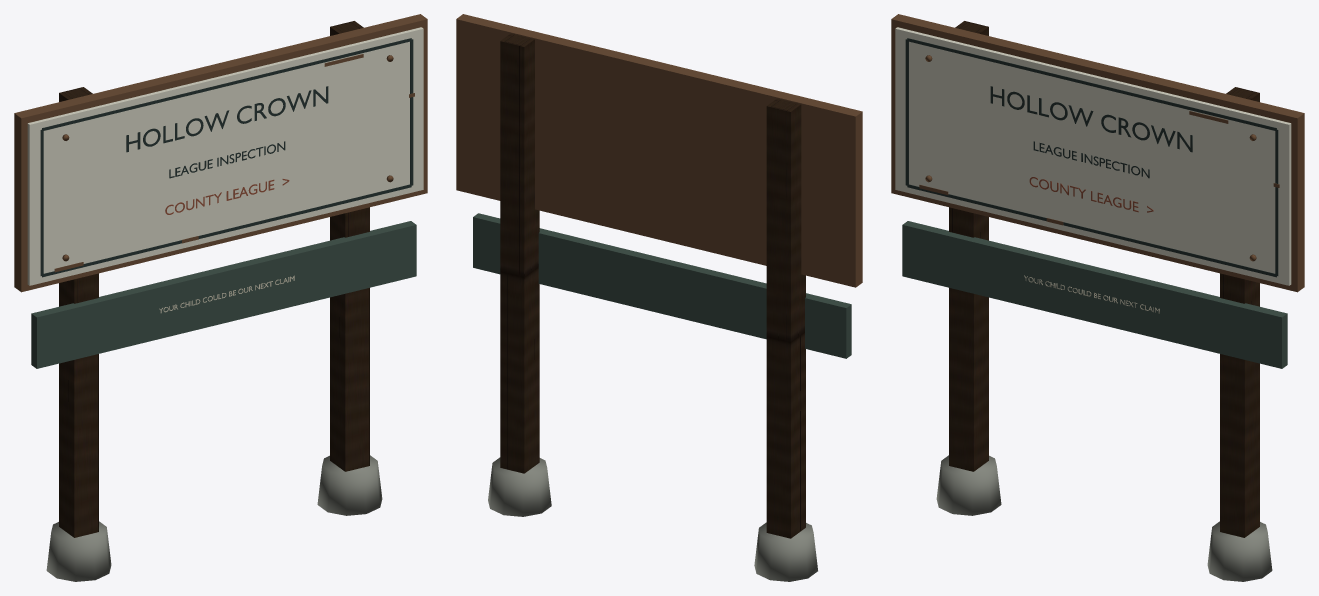
The model's file is waymarker-hollow-crown.glb.
3 renders of one model, left to right at view 1: azimuth 30°, elevation 25°; view 2: azimuth 150°, elevation 25°; view 3: azimuth 330°, elevation 25°, orthographic.
Parts seen in each view (by area): view 1: Reflective enamel face, Lower regulation plaque, Steel folded sign back, Weathered timber upright, Weathered timber upright.001, Concrete footing.001, Concrete footing, Destination, Printed border.001, Printed border, Office, Printed border.002 (+2 smaller); view 2: Steel folded sign back, Lower regulation plaque, Weathered timber upright, Weathered timber upright.001, Concrete footing.001, Concrete footing; view 3: Reflective enamel face, Lower regulation plaque, Steel folded sign back, Weathered timber upright.001, Weathered timber upright, Concrete footing, Concrete footing.001, Destination, Printed border.001, Printed border, Office, Printed border.002 (+2 smaller).
Boxes of the visible parts, <box> form: Reflective enamel face: <box>27,27,423,285</box>; Lower regulation plaque: <box>31,221,416,368</box>; Steel folded sign back: <box>14,14,427,292</box>; Weathered timber upright: <box>59,87,98,537</box>; Weathered timber upright.001: <box>330,21,369,471</box>; Concrete footing.001: <box>317,455,382,515</box>; Concrete footing: <box>46,521,111,581</box>; Destination: <box>126,86,328,152</box>; Printed border.001: <box>42,38,411,131</box>; Printed border: <box>42,184,411,277</box>; Office: <box>169,141,285,178</box>; Printed border.002: <box>40,129,43,275</box>; Steel folded sign back: <box>456,14,862,287</box>; Lower regulation plaque: <box>473,213,851,358</box>; Weathered timber upright: <box>766,98,805,538</box>; Weathered timber upright.001: <box>500,33,539,473</box>; Concrete footing.001: <box>488,457,551,516</box>; Concrete footing: <box>754,522,817,581</box>; Reflective enamel face: <box>895,27,1291,285</box>; Lower regulation plaque: <box>902,221,1287,368</box>; Steel folded sign back: <box>891,14,1304,292</box>; Weathered timber upright.001: <box>1220,87,1259,537</box>; Weathered timber upright: <box>949,21,988,471</box>; Concrete footing: <box>936,455,1001,515</box>; Concrete footing.001: <box>1207,521,1272,581</box>; Destination: <box>990,86,1192,152</box>; Printed border.001: <box>907,38,1276,131</box>; Printed border: <box>907,184,1276,277</box>; Office: <box>1033,141,1149,178</box>; Printed border.002: <box>905,39,908,185</box>.
Bounding box in the file's own units: 1.98 × 2.2 × 0.28.
Materials: 8 (1 with a texture image).
